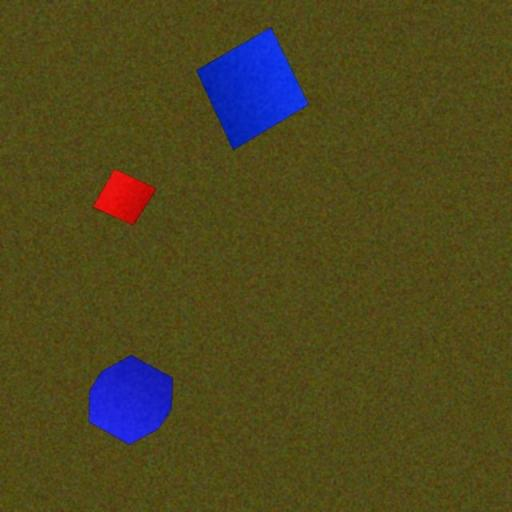BLUE_SQUARE: (195, 26, 310, 150)
RED_SQUARE: (92, 168, 157, 226)
